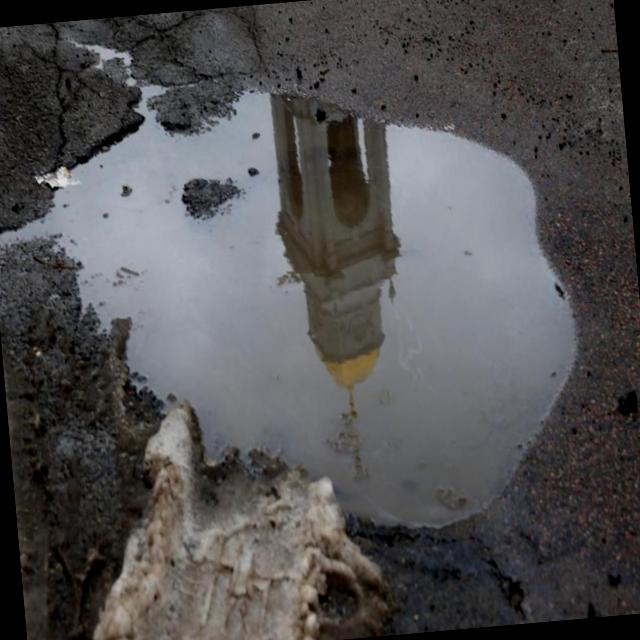bad-road: (0, 59, 597, 567)
